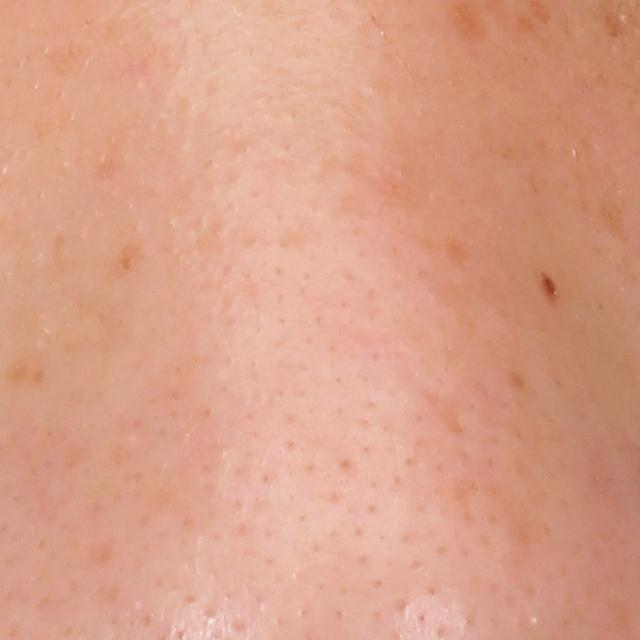melasma: (42, 41, 106, 78), (589, 199, 635, 248), (438, 235, 473, 268), (115, 237, 142, 278), (599, 13, 624, 40), (505, 368, 530, 395)
nevus: (538, 266, 561, 308)
